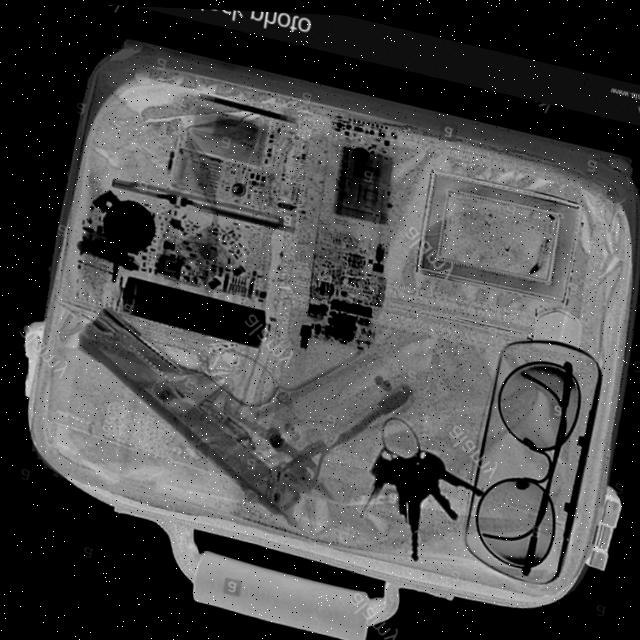pistol: (43, 278, 422, 550)
